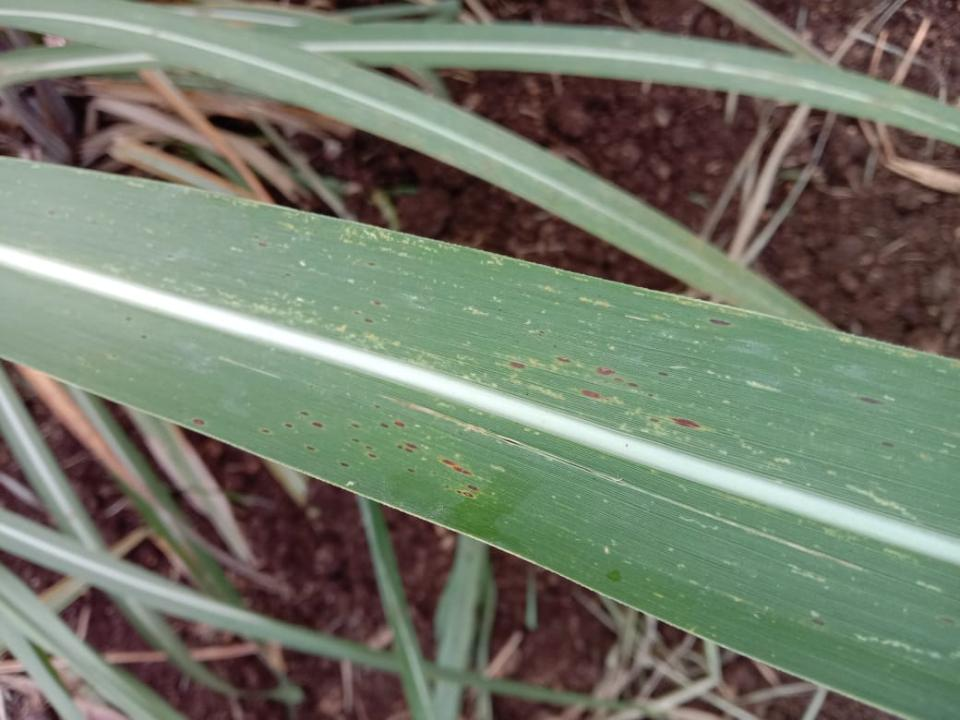Rust: (254, 403, 489, 506), (594, 365, 643, 392), (664, 410, 710, 434), (576, 384, 604, 403), (705, 315, 735, 330), (189, 412, 215, 429), (856, 394, 885, 408), (552, 353, 576, 369), (505, 358, 532, 372), (369, 298, 384, 308), (361, 316, 377, 325)
